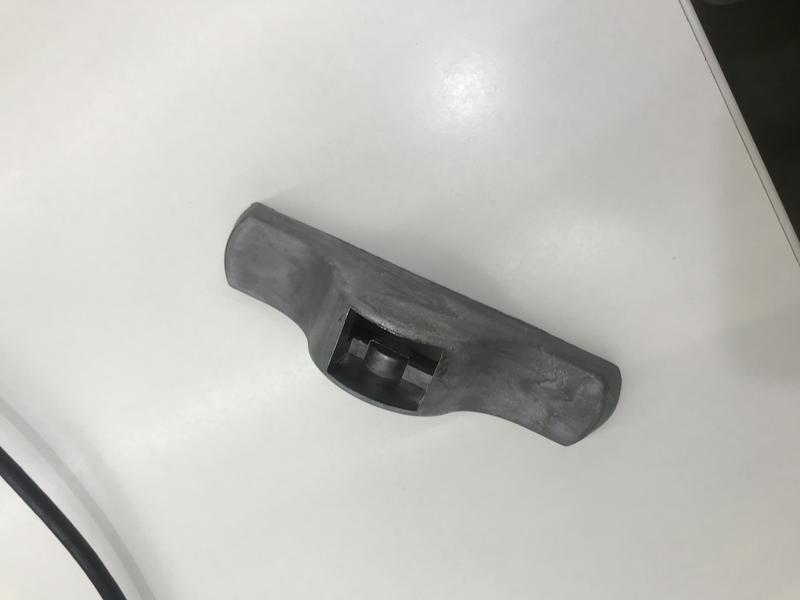zapchast: (211, 190, 632, 464)
